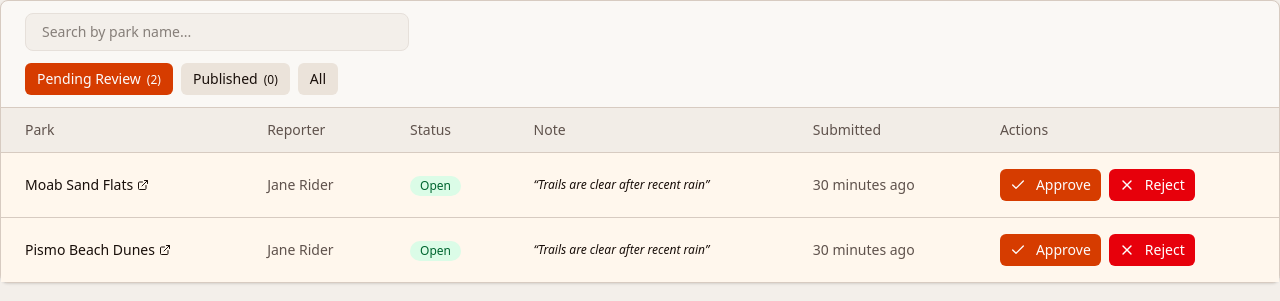
Test: ConditionModerationTable › filters by park name search
The image size is (1280, 301).
Type "pismo" into the field with placeholder "Search by park name..." at x=217, y=32, box x1=25 y1=13 x2=409 y2=51
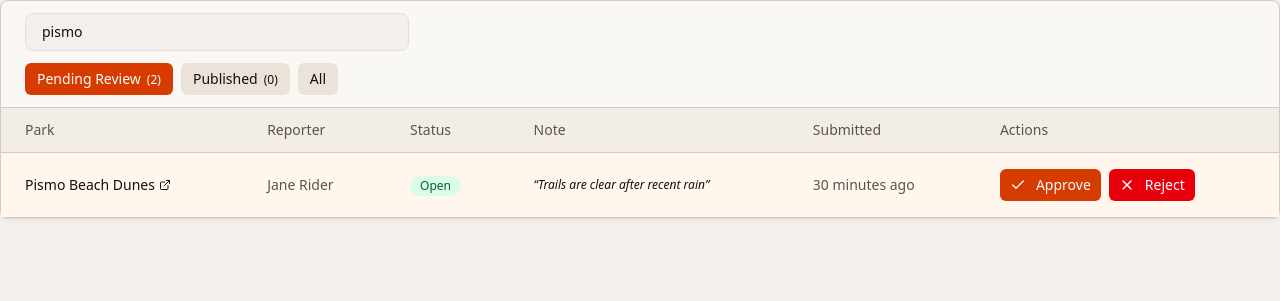
Expected: the link "Pismo Beach Dunes" is shown, x1=25 y1=175 x2=171 y2=194
Now the link "Moab Sand Flats" is gone
